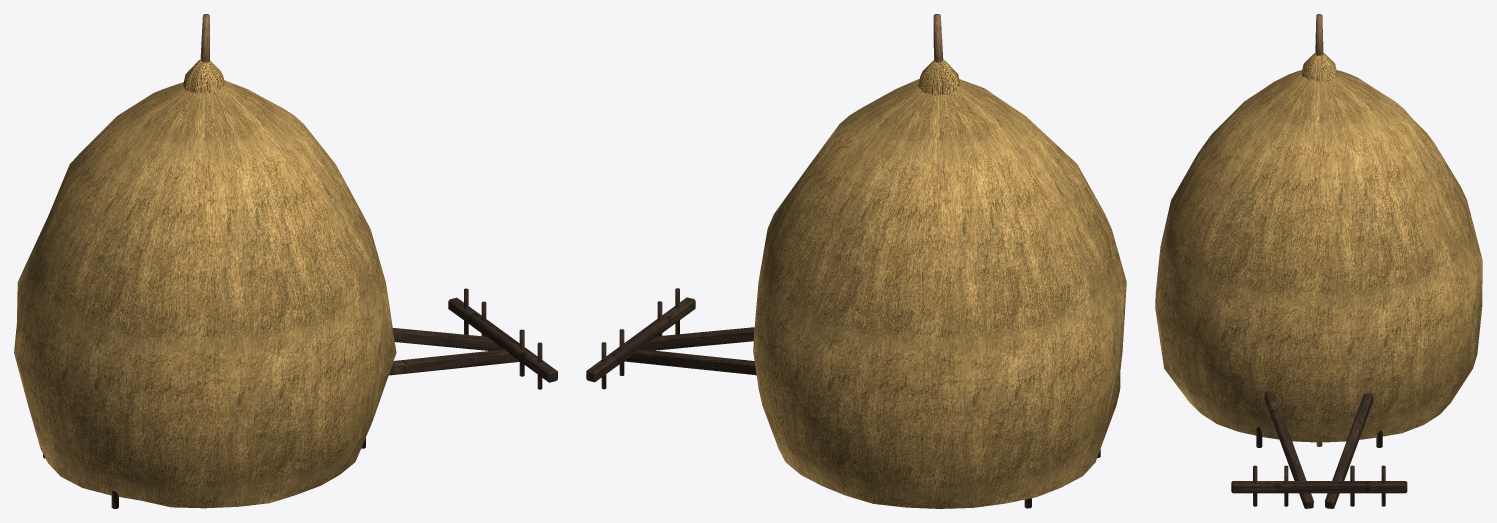
The model's file is props_southasia.glb.
3 views of the same model, side by side, from view 1: azimuth 30°, elevation 25°; view 2: azimuth 150°, elevation 25°; view 3: azimuth 270°, elevation 25° (orthographic). The views are drawn at different scales.
Visible parts, largest first — view 1: haystack_sa_mesh, cart_bullock_mesh; view 2: haystack_sa_mesh, cart_bullock_mesh; view 3: haystack_sa_mesh, cart_bullock_mesh.
Part boxes in pixels (x1,y1,x2,y2): haystack_sa_mesh: (14,14,396,508); cart_bullock_mesh: (388,288,557,389); haystack_sa_mesh: (753,14,1126,508); cart_bullock_mesh: (586,288,756,389); haystack_sa_mesh: (1155,14,1482,442); cart_bullock_mesh: (1231,391,1407,508).
Size of the model in its own units: 4.67 by 4.15 by 3.16.
14 materials, 8 textured.
